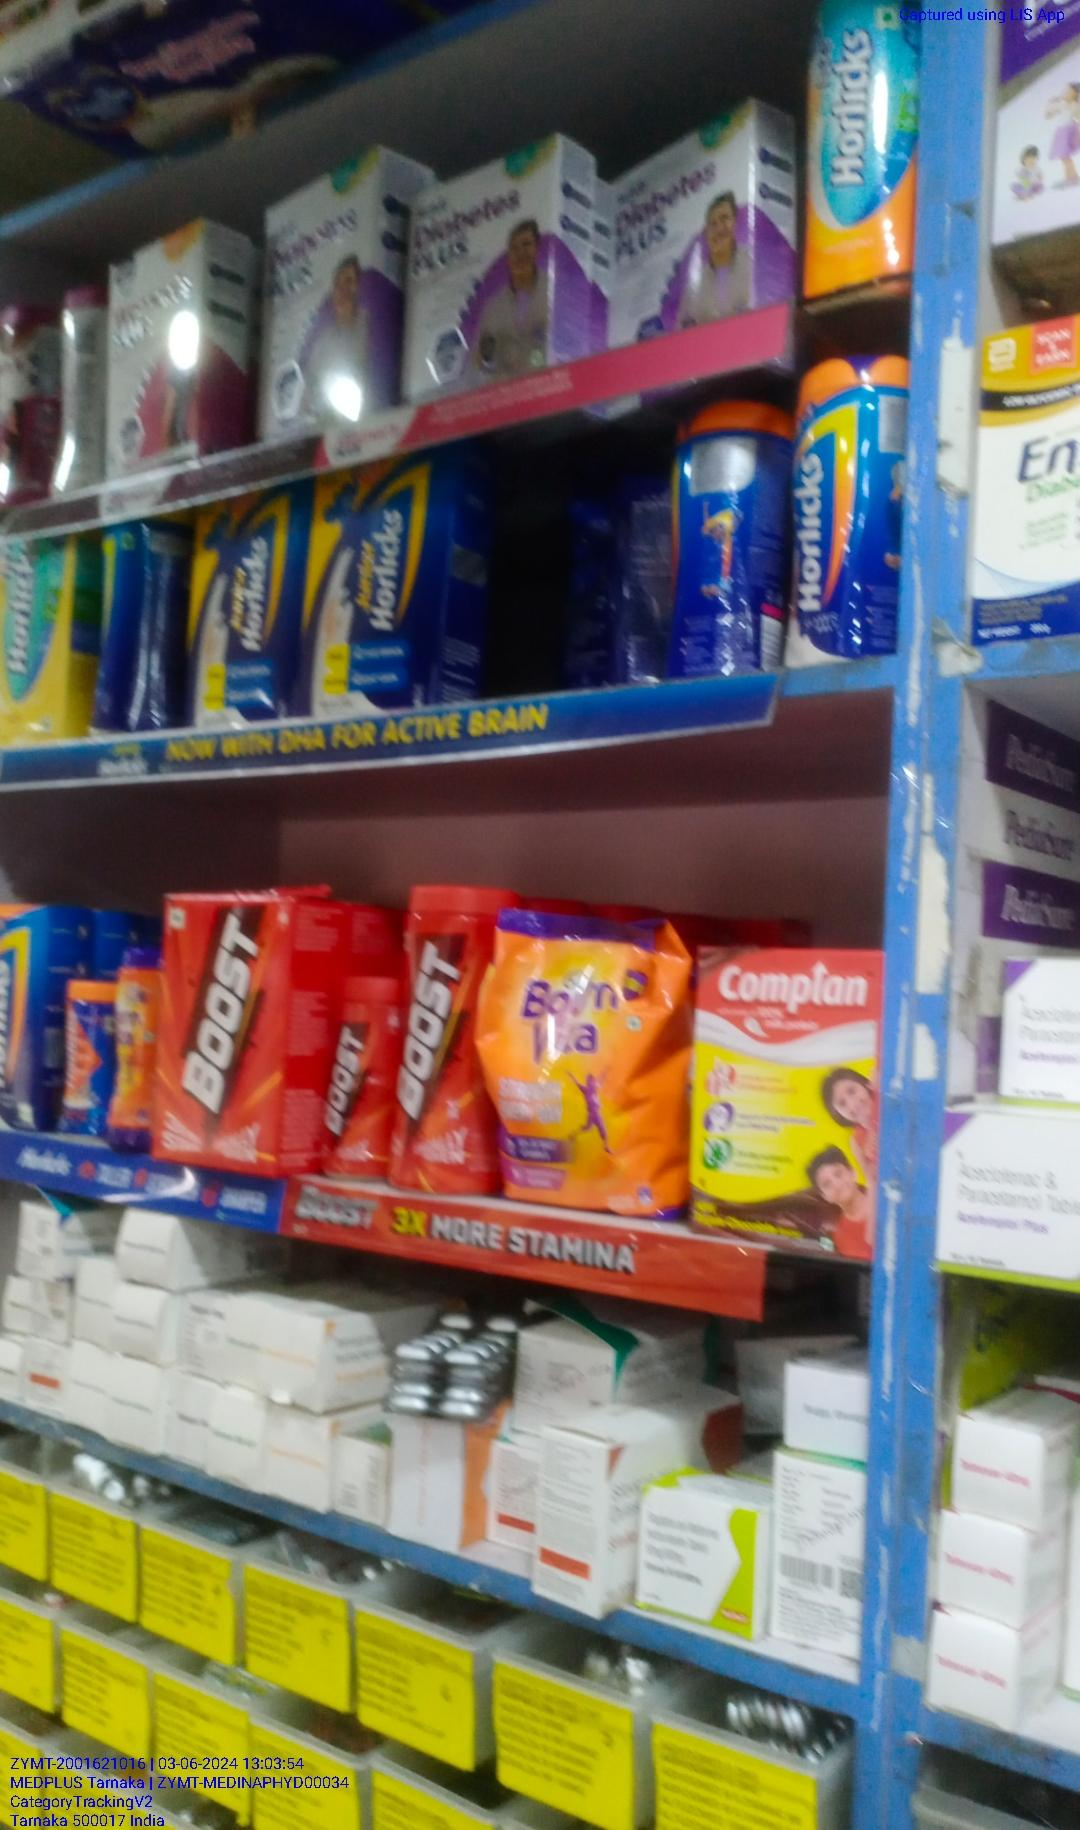BOURN_VITA_500_G_POUCH: (490, 918, 689, 1229)
HORLICK_CLASSIC_MALT_500_G_JAR: (788, 359, 874, 654)
